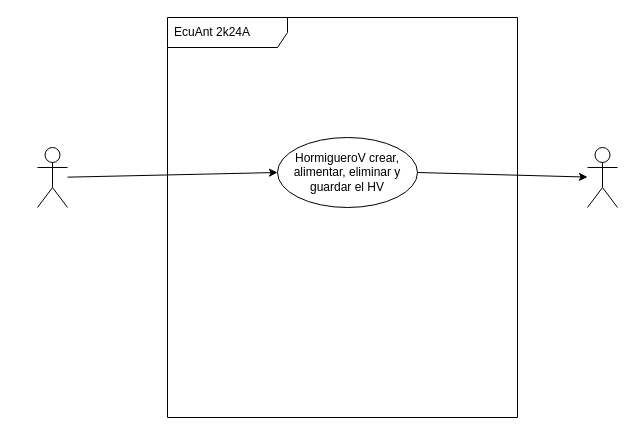
The diagram is 641 pixels wide and 435 high, and some of its shapes have lost their labels. Each missing label, with the centre of its shape:
"Entomólogos" goes at point (52, 177).
"Sistema" goes at point (602, 177).
